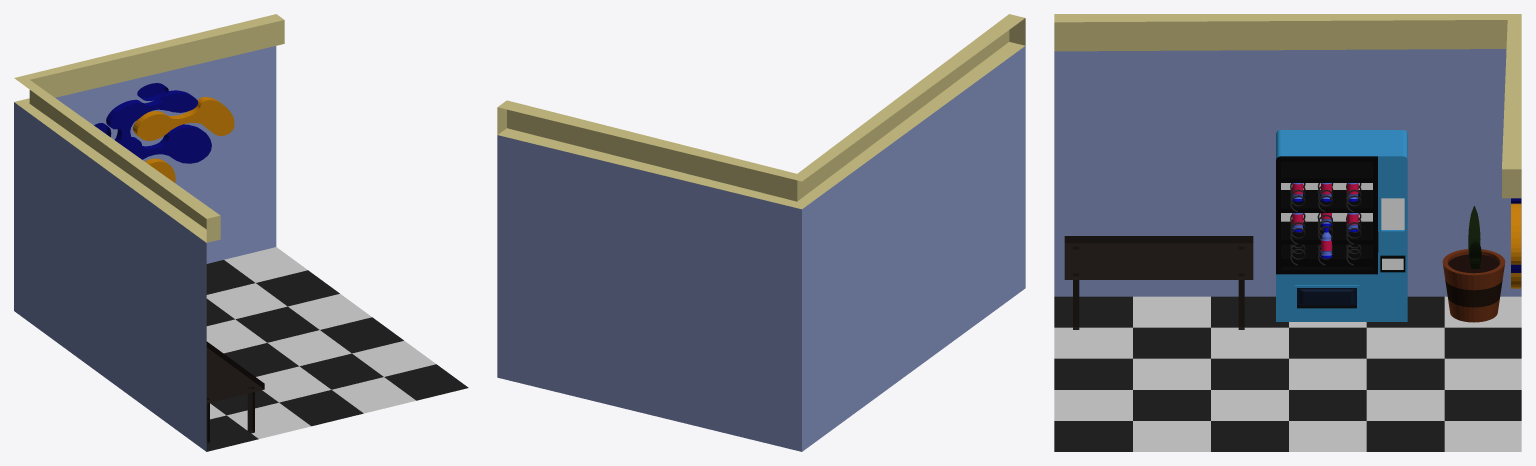
File: AnimatedObject0041.obj
The picture shows the model from 3 angles, left to right: view 1: azimuth 30°, elevation 25°; view 2: azimuth 150°, elevation 25°; view 3: azimuth 270°, elevation 25°; orthographic projection. The views are drawn at different scales.
Visible parts, largest first — view 1: ruangan_Cube.003, meja_Cube.004, logo_Circle.005, logo.001_Circle.001, logo.005_Circle.002; view 2: ruangan_Cube.003; view 3: ruangan_Cube.003, vending_machine_Cube.001, meja_Cube.004, pot_bunga_Cylinder, per_second\_Spiral.010, Plane.007, logo_Circle.005.
Part boxes in pixels (box(x1,y1,x2,y2)): ruangan_Cube.003: box(14, 14, 468, 451); meja_Cube.004: box(206, 341, 264, 444); logo_Circle.005: box(133, 97, 234, 140); logo.001_Circle.001: box(115, 124, 211, 163); logo.005_Circle.002: box(106, 90, 197, 132); ruangan_Cube.003: box(497, 14, 1025, 451); ruangan_Cube.003: box(1054, 14, 1521, 451); vending_machine_Cube.001: box(1276, 130, 1407, 321); meja_Cube.004: box(1064, 236, 1253, 329); pot_bunga_Cylinder: box(1442, 249, 1505, 322); per_second\_Spiral.010: box(1290, 183, 1361, 265); Plane.007: box(1468, 206, 1481, 268); logo_Circle.005: box(1511, 203, 1521, 264).
Bounding box in the file's own units: 11.73 × 9.95 × 14.9.
